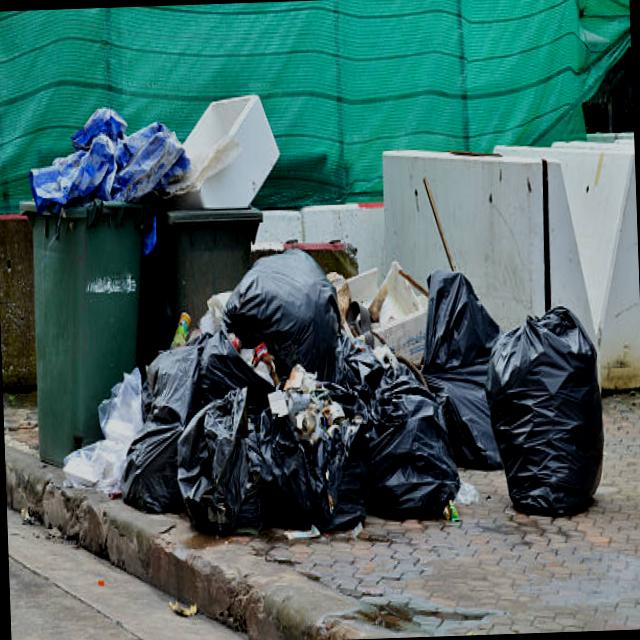garbage: (16, 83, 604, 548)
